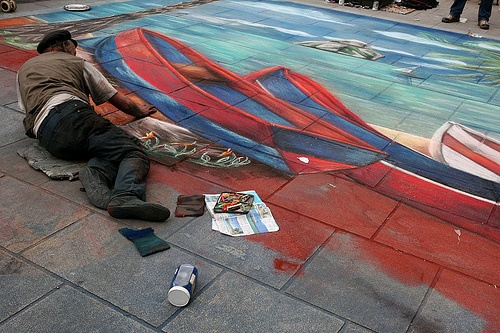head: (36, 28, 79, 59)
person: (12, 29, 173, 220), (440, 0, 496, 28)
